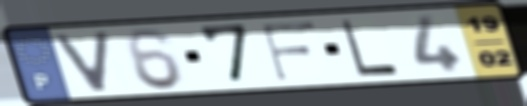4: (411, 12, 467, 75)
6: (123, 26, 187, 92)
7: (195, 22, 253, 87)
F: (258, 20, 320, 83)
L: (338, 17, 403, 78)
V: (50, 29, 112, 94)
